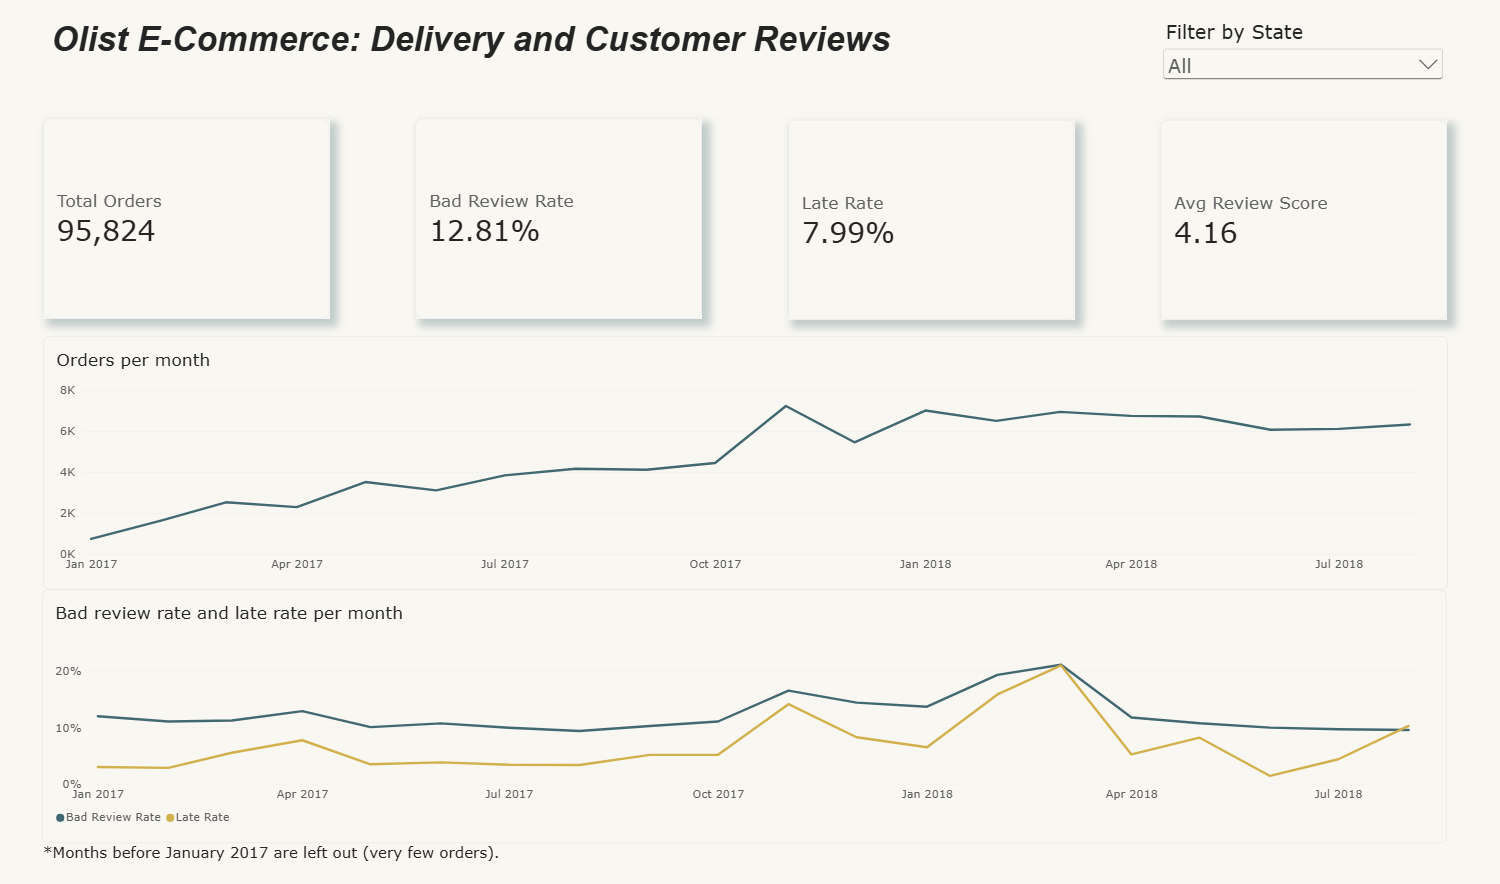

What the dashboard file says about the page in this screenshot:
{"tool":"powerbi","page":{"name":"Overview","canvas":[1920,1080],"ordinal":0},"visuals":[{"type":"group","id":"g1","title":"Group 1","box":[87.4,145.7,1745.9,251.2],"z":0},{"type":"cardVisual","fields":{"Data":["Funnel.Total Orders"]},"box":[87.4,146.4,356.8,249.1],"z":0,"group":"g1"},{"type":"textbox","box":[85.4,23.4,1287.2,108.1],"z":1000},{"type":"cardVisual","fields":{"Data":["Funnel.Avg Review Score"]},"box":[1476.5,147.8,356.8,249.1],"z":1000,"group":"g1"},{"type":"cardVisual","fields":{"Data":["Funnel.Late Rate"]},"box":[1013.5,147.1,356.8,249.1],"z":2000,"group":"g1"},{"type":"lineChart","title":"Bad review rate and late rate per month","fields":{"Category":["Orders.purchase_date.Variation.Date Hierarchy.Year","Orders.purchase_date.Variation.Date Hierarchy.Month"],"Y":["Funnel.Bad Review Rate","Funnel.Late Rate"]},"box":[85.4,732,1747,314.9],"z":2000},{"type":"slicer","fields":{"Values":["States.state_name"]},"box":[1475.6,23.4,357.6,106.4],"z":3000},{"type":"cardVisual","fields":{"Data":["Funnel.Bad Review Rate"]},"box":[550.4,145.7,356.8,249.1],"z":3000,"group":"g1"},{"type":"lineChart","title":"Orders per month","fields":{"Category":["Orders.purchase_date.Variation.Date Hierarchy.Year","Orders.purchase_date.Variation.Date Hierarchy.Month"],"Y":["Funnel.Total Orders"]},"box":[87,416.6,1747,314.9],"z":4000},{"type":"textbox","box":[86.4,1047.7,654.5,30.9],"z":5000}]}

Visuals, with their boxes on the page's 1920x1080 design canvas (x1, y1, x2, y2). These are canvas units, not pixel positions in the 1500x884 screenshot, which may show the page scaled, cropped or inside an application window:
"Group 1" group: (87,146,1833,397)
cardVisual - Funnel.Total Orders: (87,146,444,396)
textbox: (85,23,1373,132)
cardVisual - Funnel.Avg Review Score: (1476,148,1833,397)
cardVisual - Funnel.Late Rate: (1014,147,1370,396)
"Bad review rate and late rate per month" lineChart: (85,732,1832,1047)
slicer - States.state_name: (1476,23,1833,130)
cardVisual - Funnel.Bad Review Rate: (550,146,907,395)
"Orders per month" lineChart: (87,417,1834,732)
textbox: (86,1048,741,1079)
